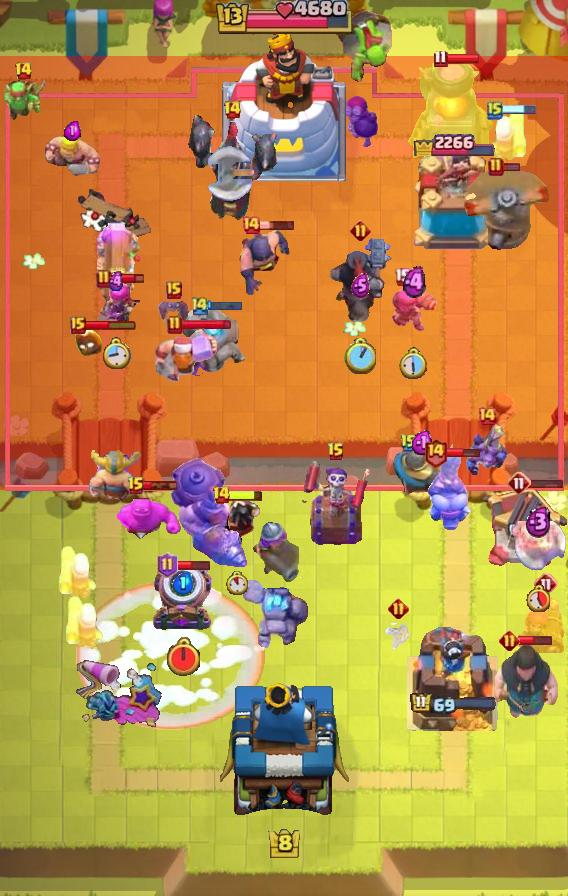archer-evolution: (91, 279, 141, 329)
axe: (205, 145, 261, 203), (512, 521, 568, 571)
bar: (181, 318, 232, 331), (84, 319, 137, 331), (228, 489, 264, 502), (110, 272, 145, 285), (259, 219, 296, 231), (528, 477, 564, 489), (501, 104, 537, 116), (445, 53, 481, 65), (518, 634, 553, 646), (176, 559, 211, 571), (208, 299, 243, 311), (445, 447, 481, 458), (143, 480, 178, 491), (502, 162, 521, 172)
bar-level: (423, 437, 448, 468), (534, 572, 558, 596), (507, 471, 531, 495), (157, 552, 178, 578), (499, 630, 520, 651), (388, 598, 409, 619), (350, 220, 371, 241), (190, 295, 210, 316), (477, 406, 497, 426), (241, 215, 261, 235), (212, 485, 231, 505), (223, 100, 242, 120), (14, 61, 33, 81), (127, 476, 145, 496), (327, 442, 345, 462), (400, 433, 418, 453), (394, 267, 411, 286), (167, 315, 183, 335), (96, 269, 112, 289), (488, 157, 504, 177), (487, 100, 503, 120), (70, 316, 86, 334), (166, 281, 182, 299), (433, 49, 448, 68)
barbarian: (44, 133, 100, 179)
bat: (157, 297, 191, 325)
bomber: (341, 92, 379, 148)
clock: (165, 637, 202, 678), (344, 338, 376, 374), (399, 347, 429, 380), (102, 337, 131, 369), (526, 584, 550, 612), (226, 571, 248, 595)
electro-wizard: (211, 497, 263, 551)
elite-barbarian: (86, 450, 142, 504)
elixir: (525, 505, 552, 538), (403, 266, 426, 299), (411, 430, 434, 456), (173, 572, 194, 595), (351, 273, 370, 298), (107, 271, 126, 292), (64, 120, 81, 141)
elixir-golem-mid: (112, 490, 182, 548)
executioner: (238, 228, 290, 300)
fire-spirit: (74, 329, 104, 357)
firecracker: (389, 281, 439, 333), (64, 593, 106, 651), (57, 543, 99, 601), (486, 106, 528, 164)
firecracker-evolution: (512, 591, 568, 653)
goblin-ball: (335, 6, 395, 82)
golemite: (177, 308, 247, 376), (243, 577, 309, 649)
king-tower: (220, 678, 349, 826), (222, 31, 346, 181)
king-tower-bar: (213, 0, 355, 38)
knight: (391, 444, 453, 496)
lumberjack: (152, 327, 220, 383)
minion: (465, 422, 509, 478)
mortar-evolution: (151, 563, 215, 633)
musketeer: (251, 522, 299, 584)
queen-tower: (405, 154, 501, 256), (407, 627, 499, 731)
ram-rider: (427, 448, 471, 530)
skeleton: (384, 619, 412, 653)
spear-goblin: (1, 78, 45, 122)
tower-bar: (411, 128, 495, 156), (410, 692, 497, 716)
